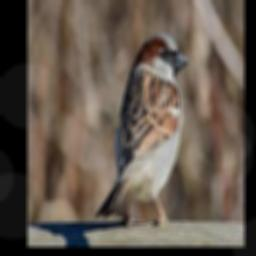Sparrow: (96, 32, 189, 225)
